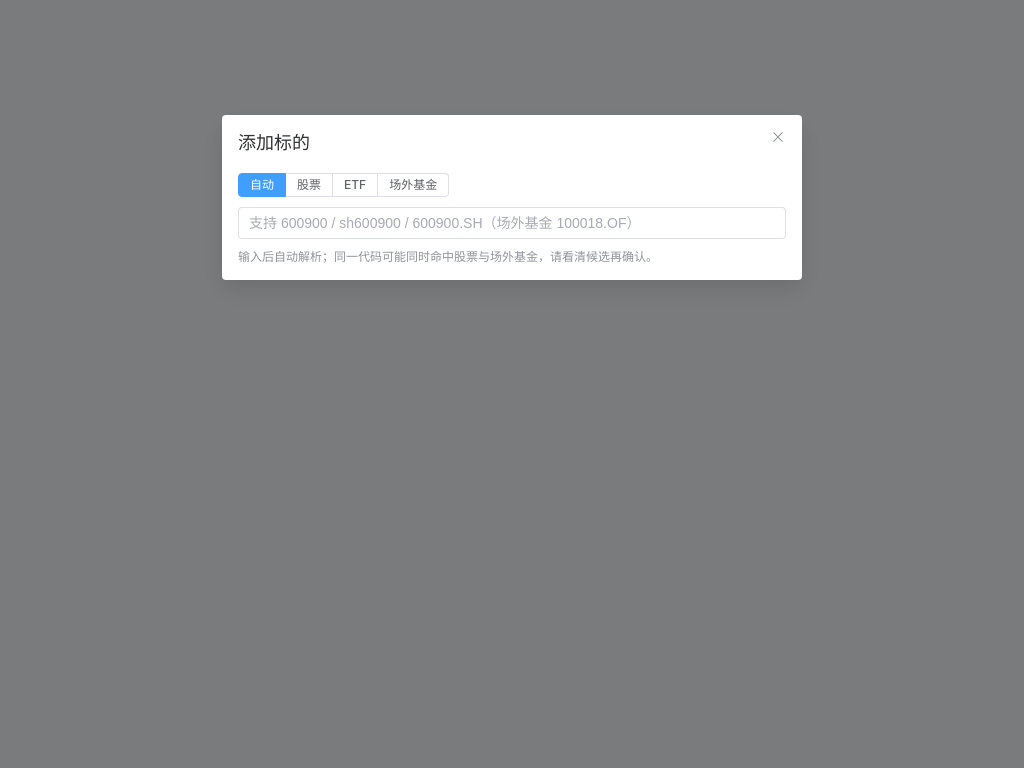
Test: AddAssetDialog 解析候选 › ① 裸 6 位数字返回 3 个候选时渲染候选列表且条数正确(且防抖只请求一次)
Type "00000" into the field with placeholder "支持 600900 / sh600900 / 600900.SH（场外基金 100018.OF）" at (512, 223), box [249,208,775,238]
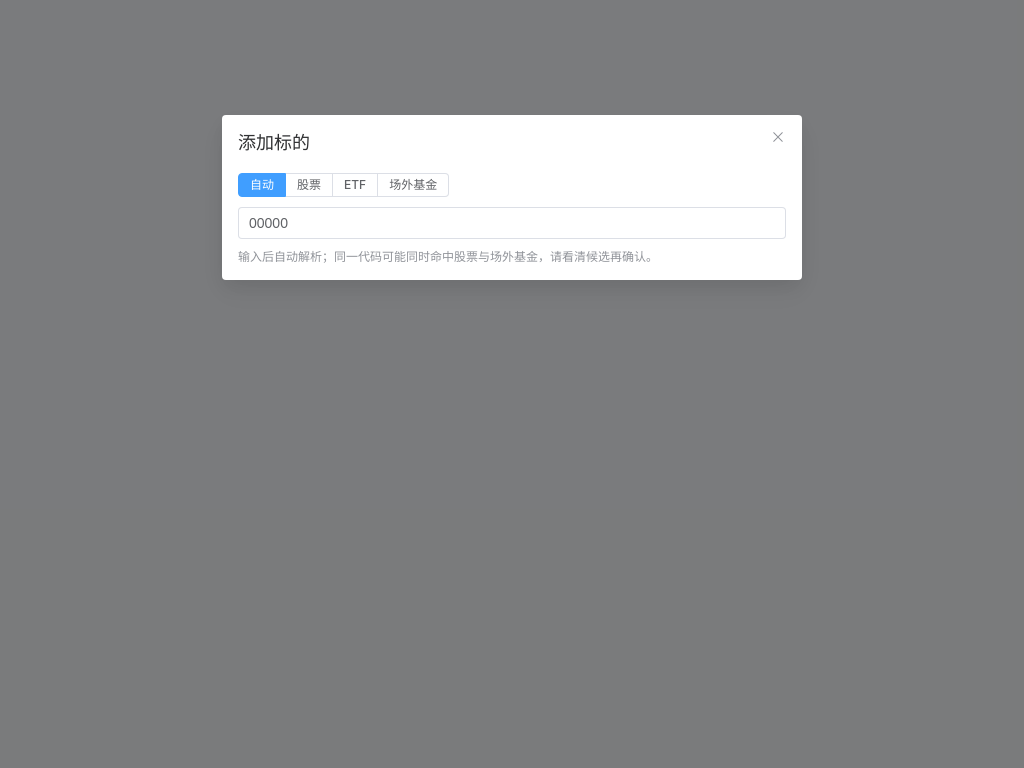
Replace the text in the field with "000001" at (512, 223), box [249,208,775,238]
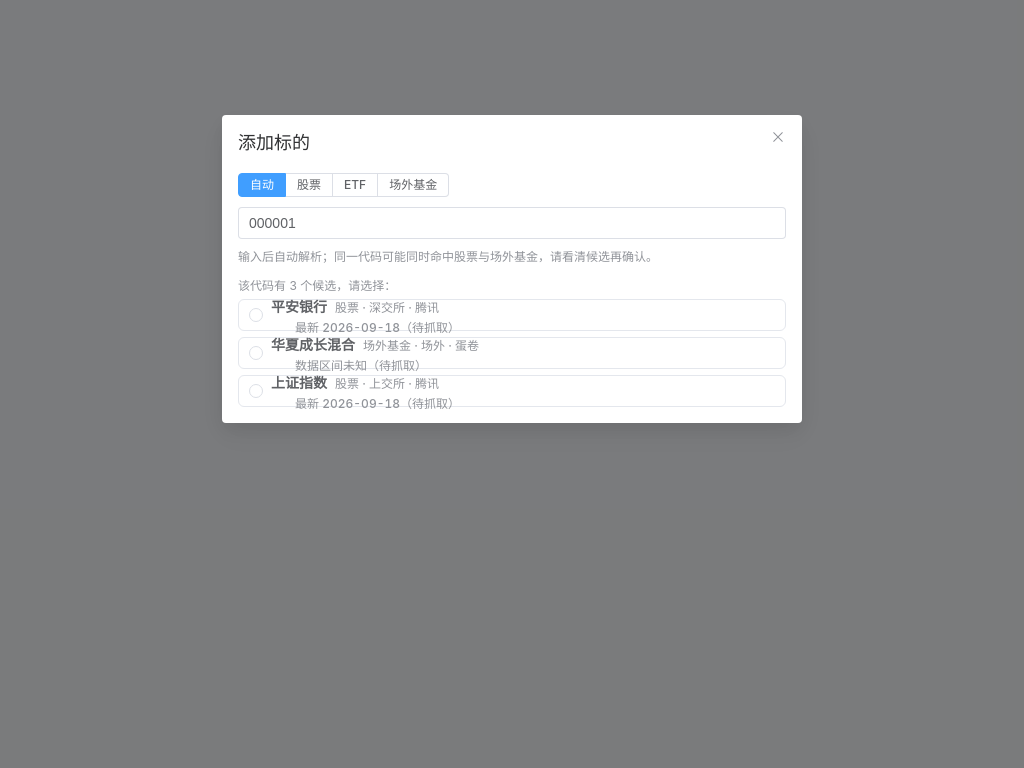
Check: the number of radio buttons with class "candidate-item" is 3, box [238,299,786,331]; [238,337,786,369]; [238,375,786,407]
Check: the text "平安银行" is shown, box [271,298,327,315]
Check: the text "华夏成长混合" is shown, box [271,336,355,353]
